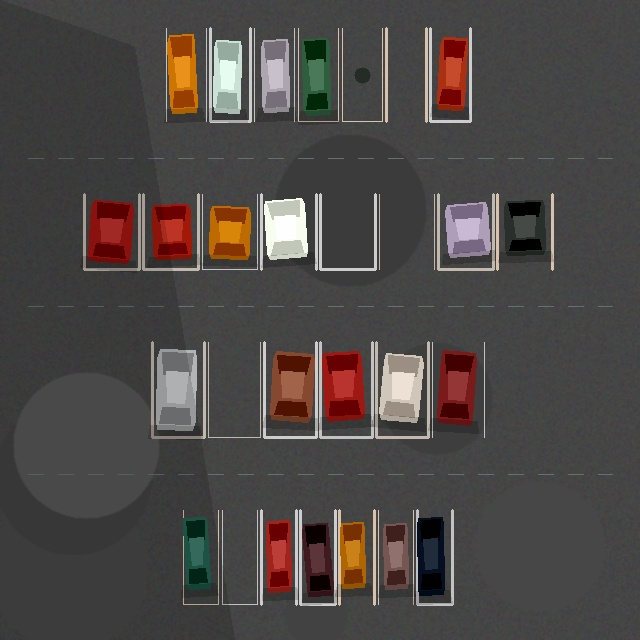space-empty: (208, 342, 260, 437), (320, 194, 375, 269), (379, 194, 434, 269), (342, 28, 382, 121), (386, 28, 426, 121), (222, 510, 257, 604)
space-occupied: (152, 342, 204, 437), (264, 342, 316, 437), (320, 342, 372, 437), (376, 342, 428, 437), (432, 342, 484, 437), (84, 194, 139, 269), (143, 194, 198, 269), (202, 194, 257, 269), (261, 194, 316, 269), (438, 194, 493, 269), (497, 194, 552, 269), (166, 28, 206, 121), (210, 28, 250, 121), (254, 28, 294, 121), (298, 28, 338, 121), (430, 28, 470, 121), (183, 510, 218, 604), (261, 510, 296, 604), (300, 510, 335, 604), (339, 510, 374, 604), (378, 510, 413, 604), (417, 510, 452, 604)
